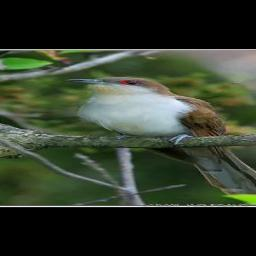Cuckoo: (63, 76, 256, 204)
